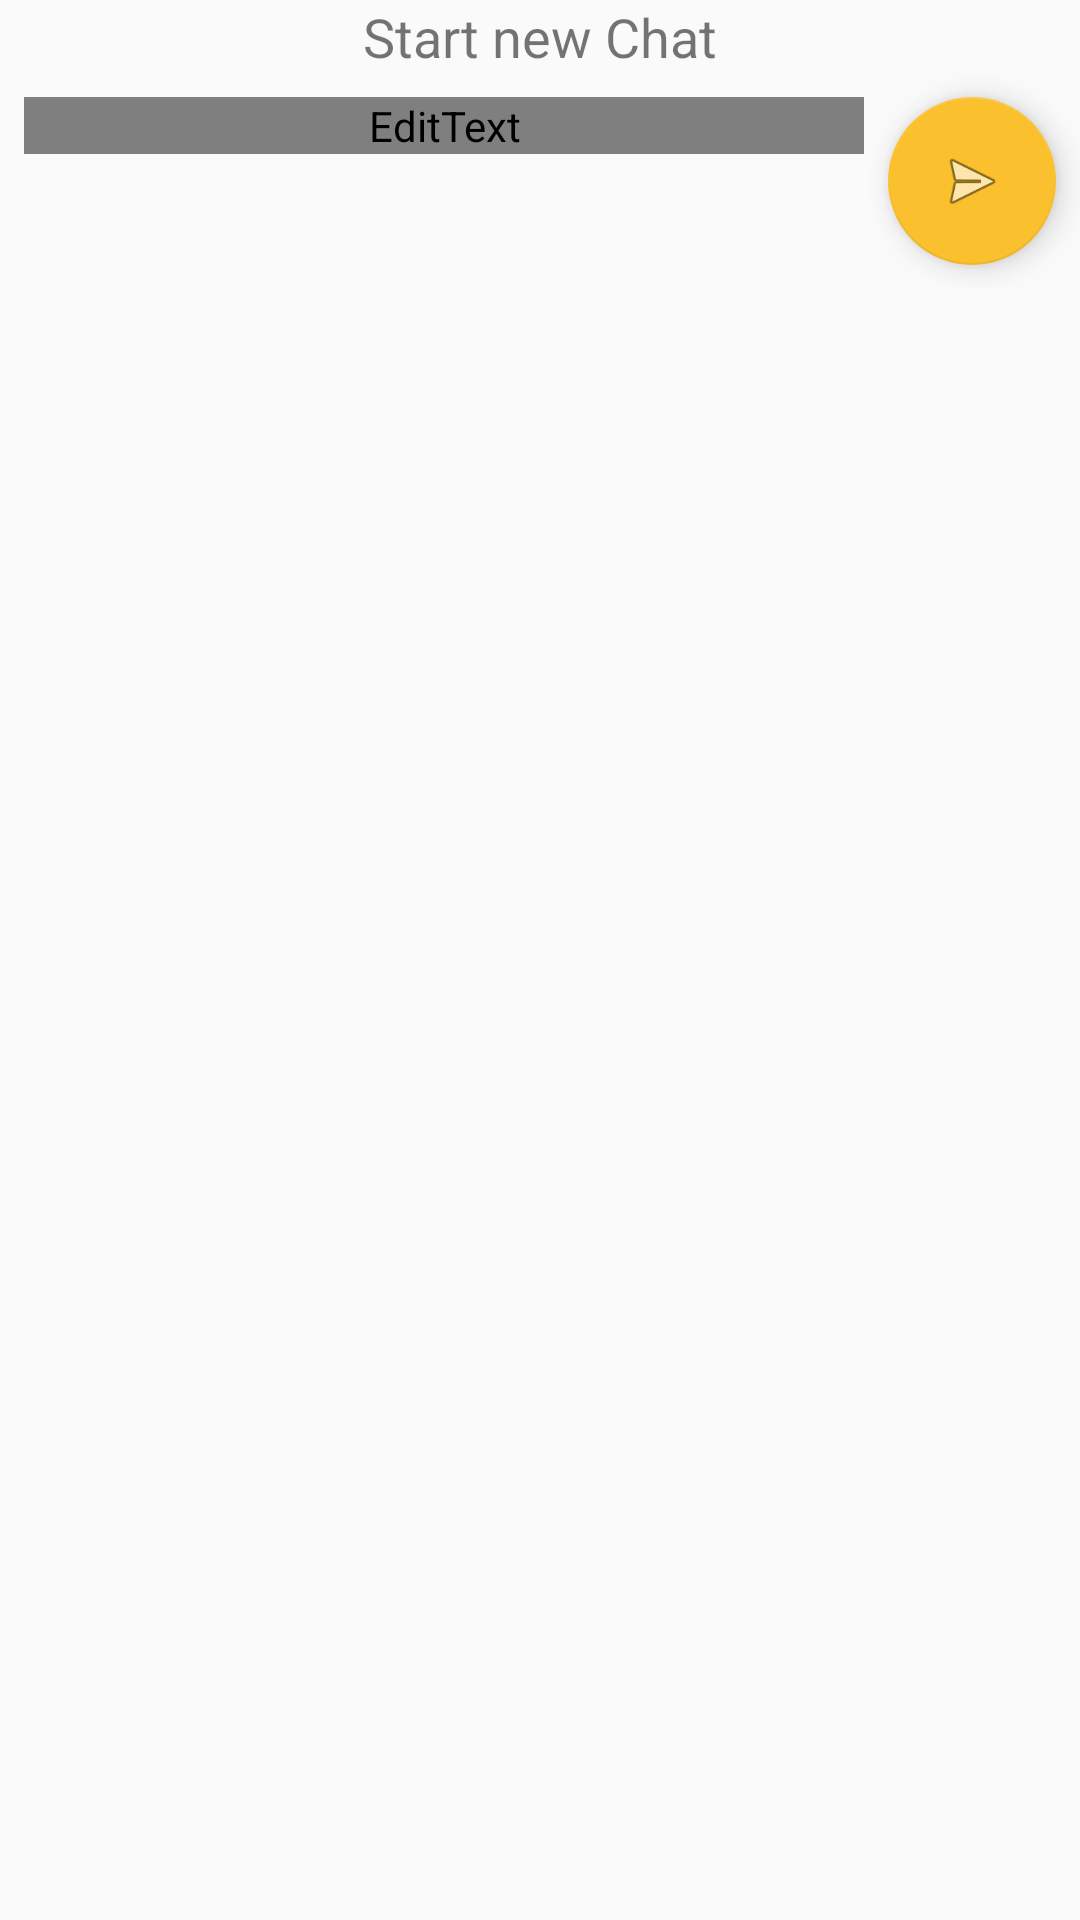

Icons on this 1080px×1920px Android screen, each with its box as (x1, y1, x2, y2):
send: (888, 97, 1056, 265)
